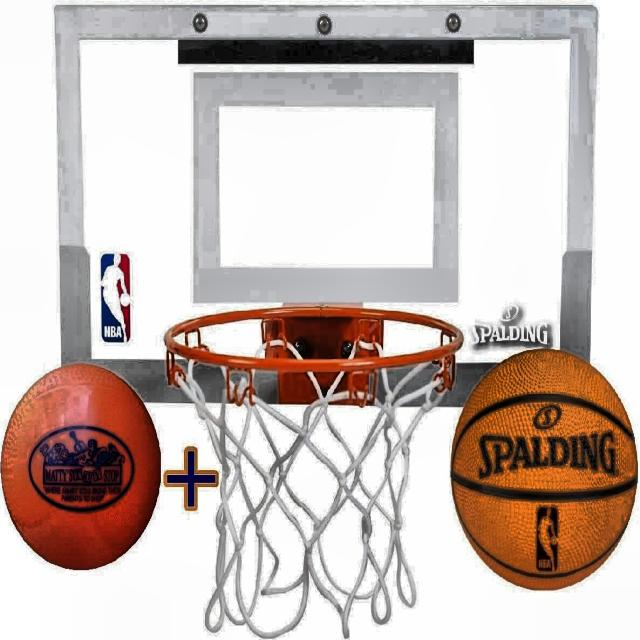board: (452, 347, 638, 590)
rim: (161, 310, 459, 628)
